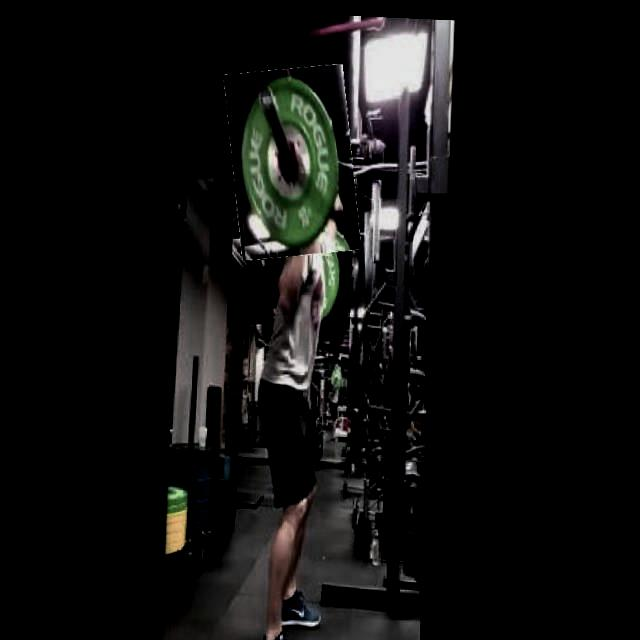barbell: (226, 61, 362, 258)
